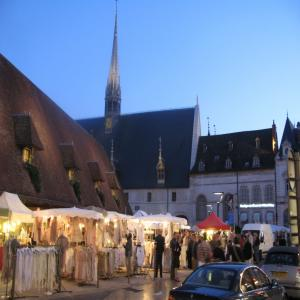Vehicle-registration-plate: (271, 273, 288, 278)
